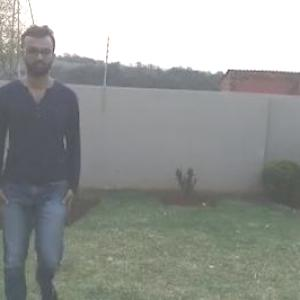follow: (0, 20, 81, 299)
